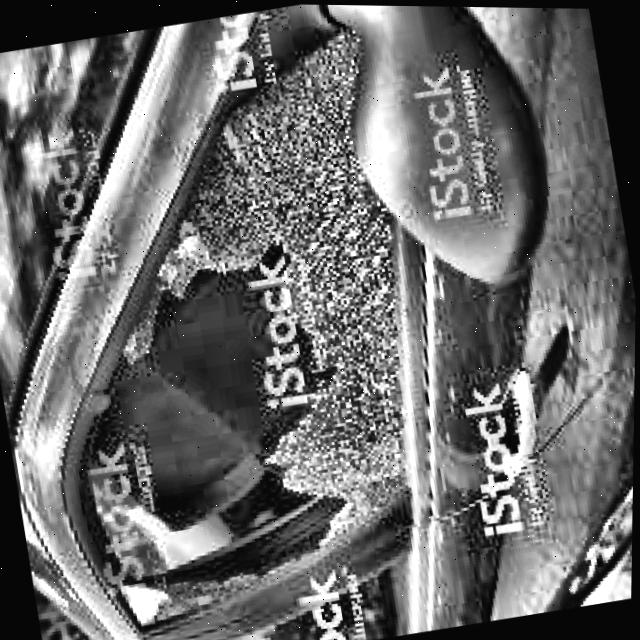glass_shatter: (65, 241, 365, 616)
